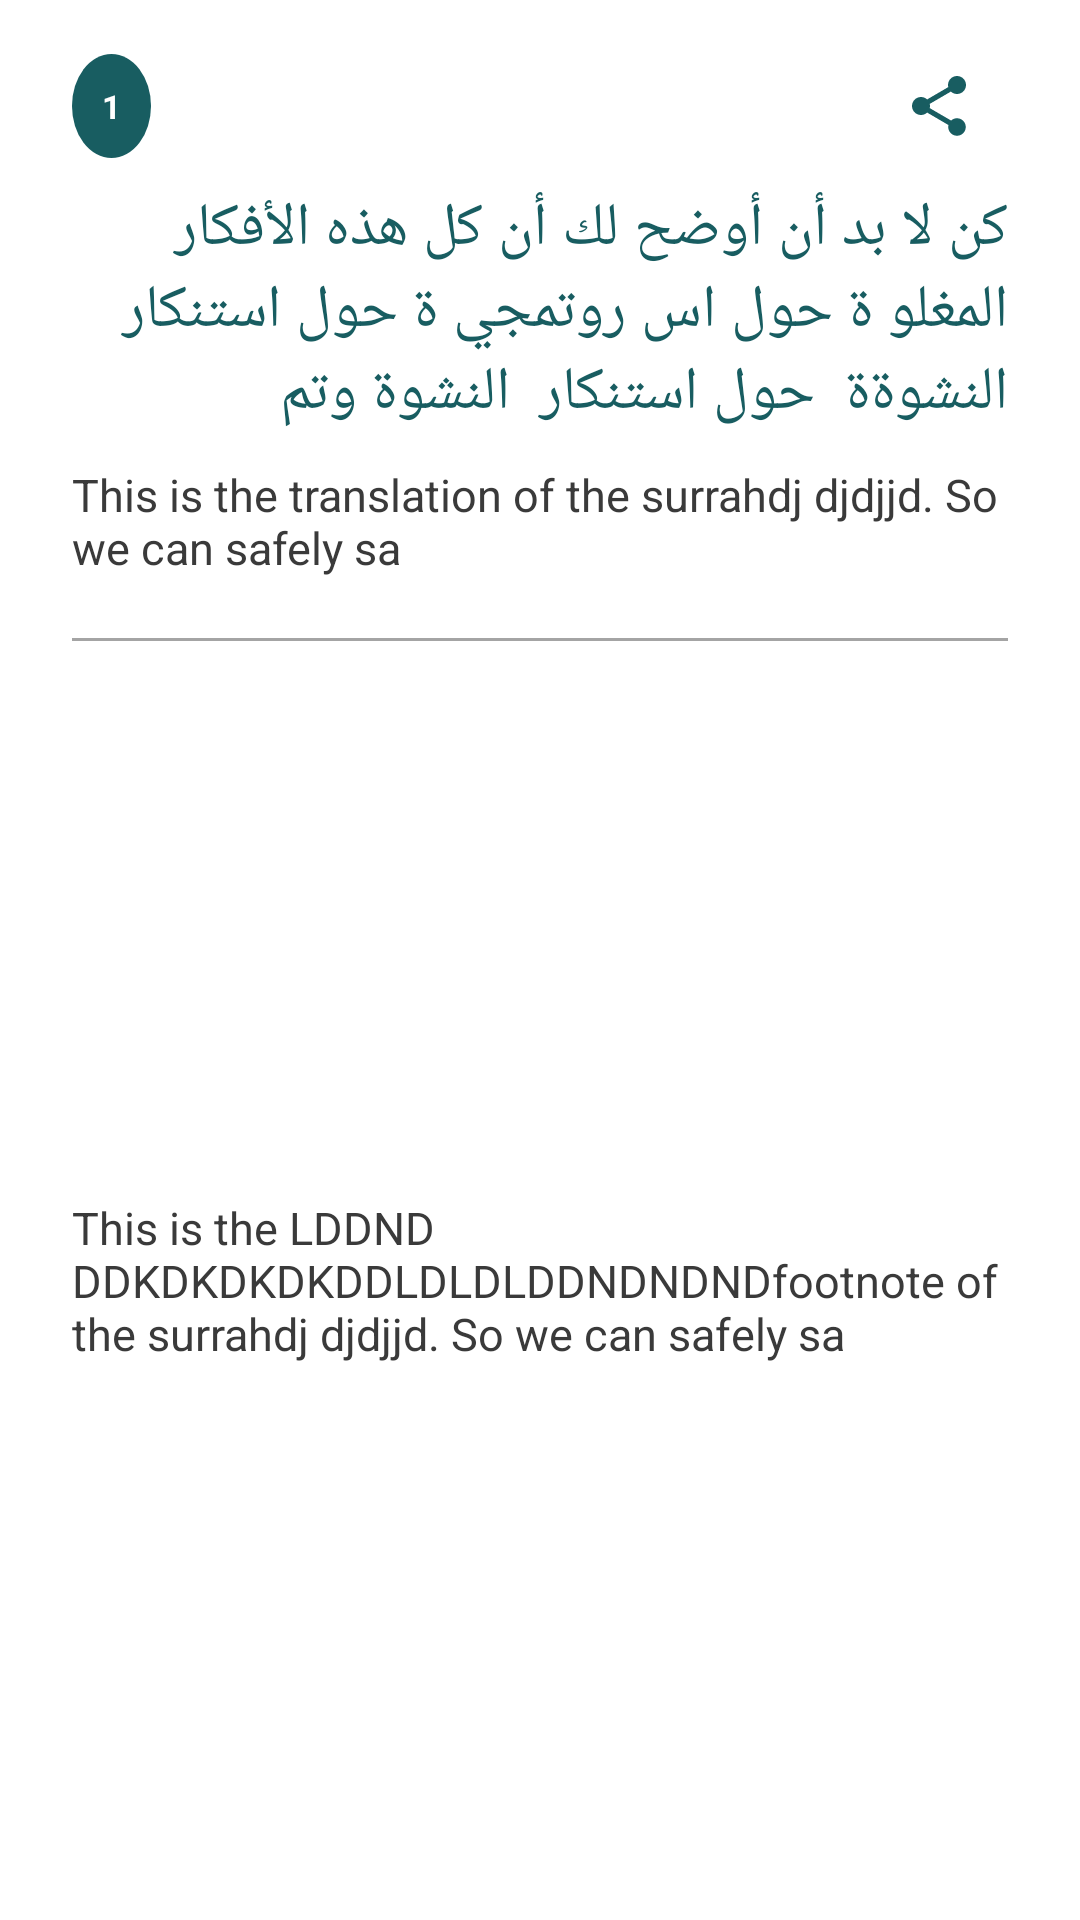

Icons on this 1080w x 1920h Android screen, each with its box as (left=x1, top=y1, right=x2, bottom=y2):
share: (left=912, top=76, right=966, bottom=136)
